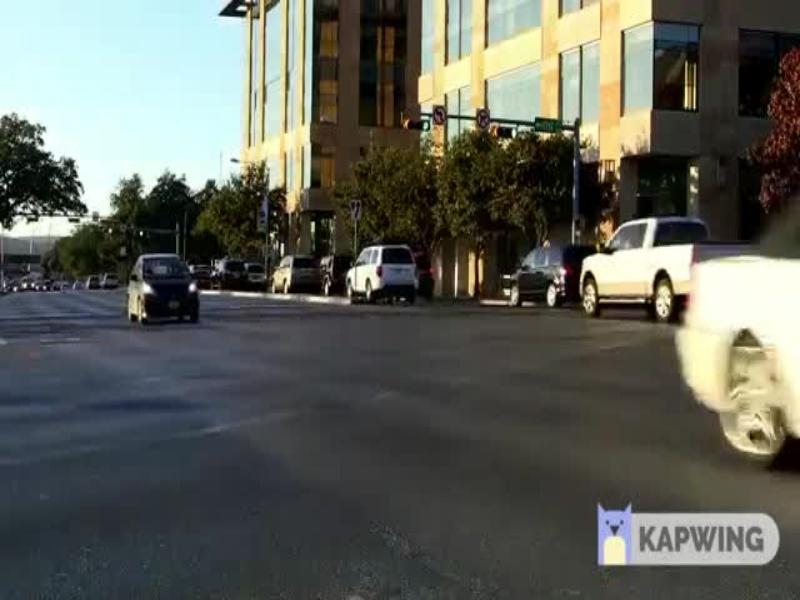car: (577, 197, 764, 319), (335, 239, 424, 316), (119, 247, 204, 326)
